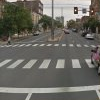crosswalk: (0, 57, 97, 68), (0, 43, 99, 47)
